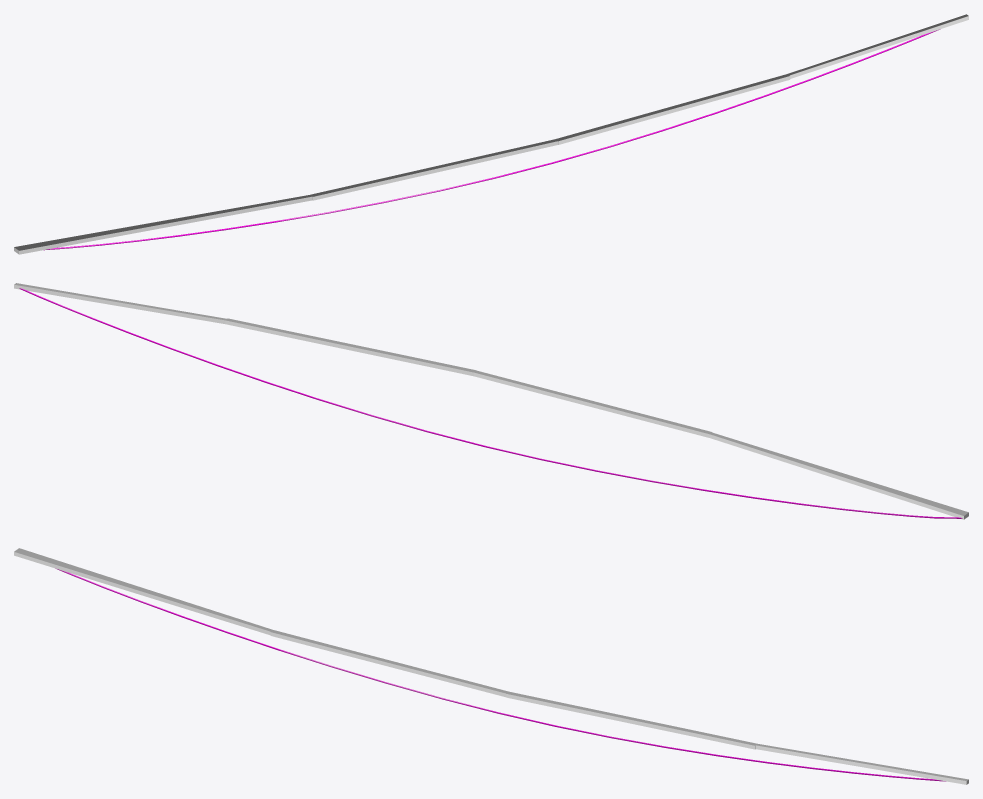
File: SM_Electric_Cable_Short_03.fbx
The picture shows the model from 3 angles, top to bottom: view 1: azimuth 30°, elevation 25°; view 2: azimuth 150°, elevation 25°; view 3: azimuth 330°, elevation 25°; orthographic projection.
Parts seen in each view (by area): view 1: SM_Electric_Cable_Short_03_ConvexHulls, SM_Electric_Cable_Short_03_LOD0; view 2: SM_Electric_Cable_Short_03_ConvexHulls, SM_Electric_Cable_Short_03_LOD0; view 3: SM_Electric_Cable_Short_03_ConvexHulls, SM_Electric_Cable_Short_03_LOD0.
Boxes of the visible parts, x1,y1,x2,y2 form: SM_Electric_Cable_Short_03_ConvexHulls: [14, 14, 968, 254]; SM_Electric_Cable_Short_03_LOD0: [44, 29, 940, 250]; SM_Electric_Cable_Short_03_ConvexHulls: [14, 283, 968, 519]; SM_Electric_Cable_Short_03_LOD0: [19, 288, 962, 518]; SM_Electric_Cable_Short_03_ConvexHulls: [14, 548, 968, 784]; SM_Electric_Cable_Short_03_LOD0: [55, 568, 945, 781].
Bounding box in the file's own units: 1969 × 100 × 95.59.
